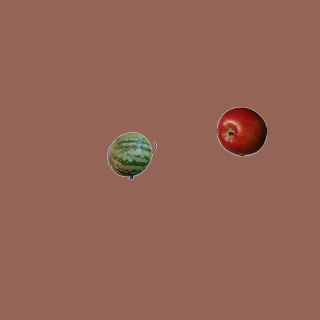Apple Braeburn: (216, 106, 266, 156)
Watermelon: (106, 130, 156, 180)
